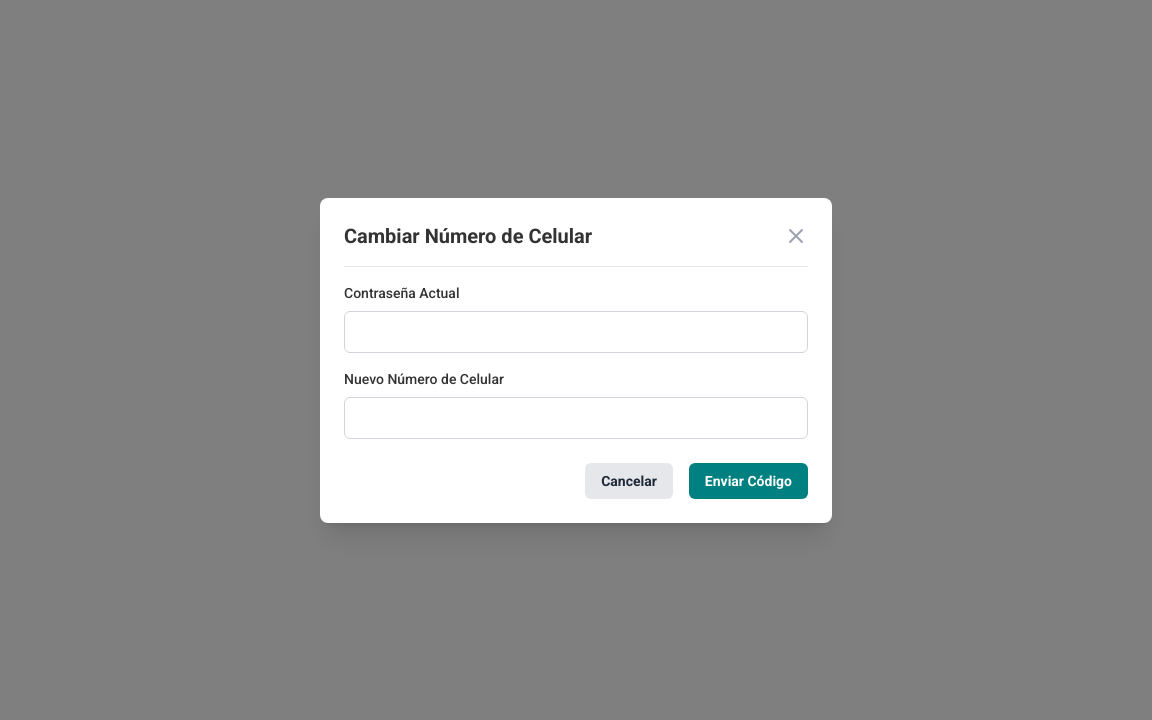
it: ChangeCelularModal › debería avanzar al segundo paso si la solicitud de cambio es exitosa
The image size is (1152, 720).
# Simulamos la entrada de datos del usuario.
Type "password123" into the password field labelled "Contraseña Actual" at (576, 332), box top-left (344, 310), bottom-right (808, 352)
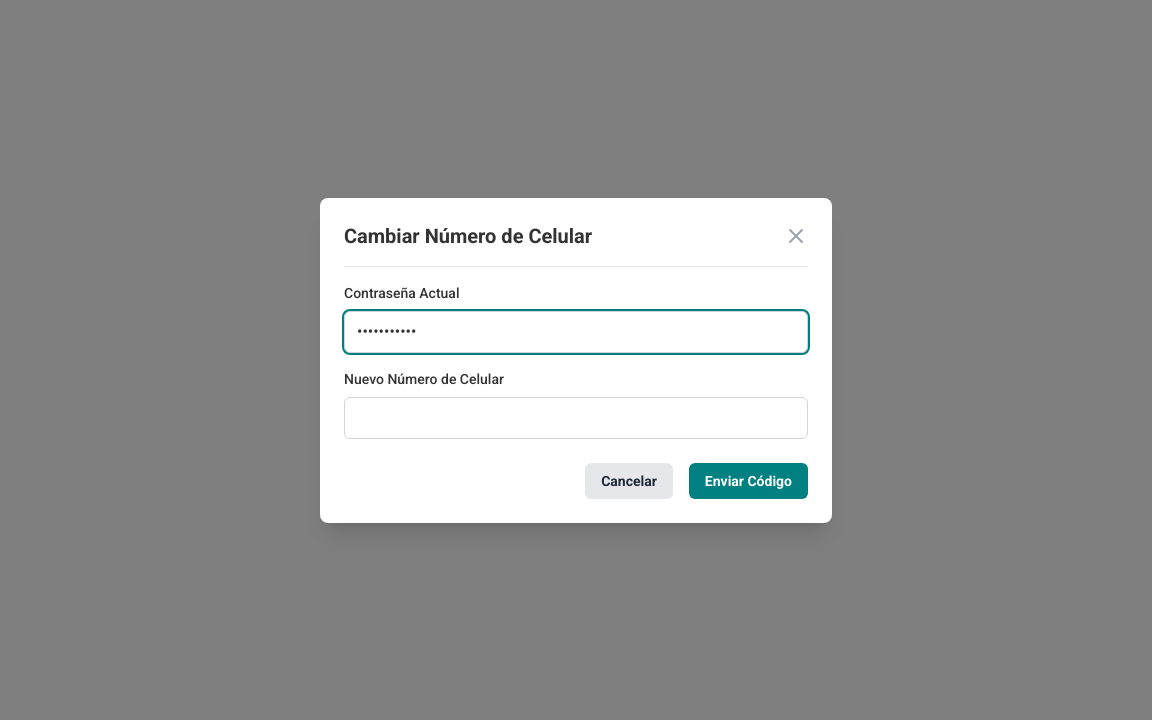
Type "3001234567" into the field labelled "Nuevo Número de Celular" at (576, 418), box top-left (344, 396), bottom-right (808, 438)
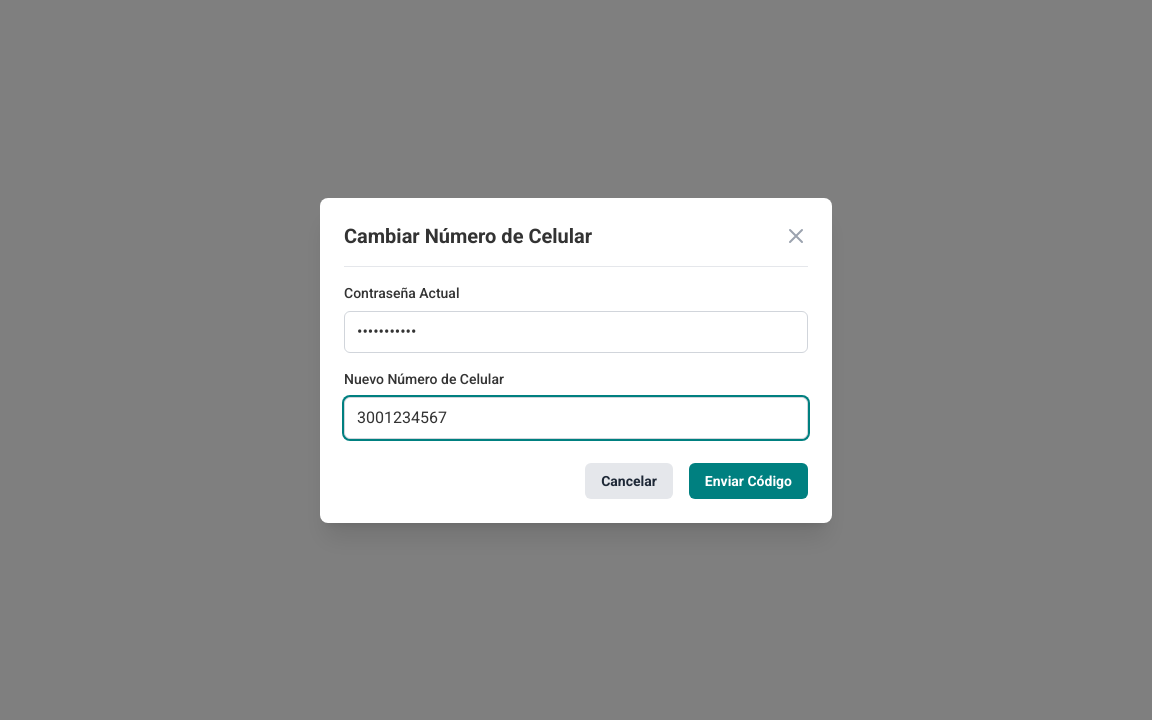
# Simulamos el envío del formulario.
Click the button "Enviar Código" at (748, 480), box top-left (689, 462), bottom-right (808, 498)
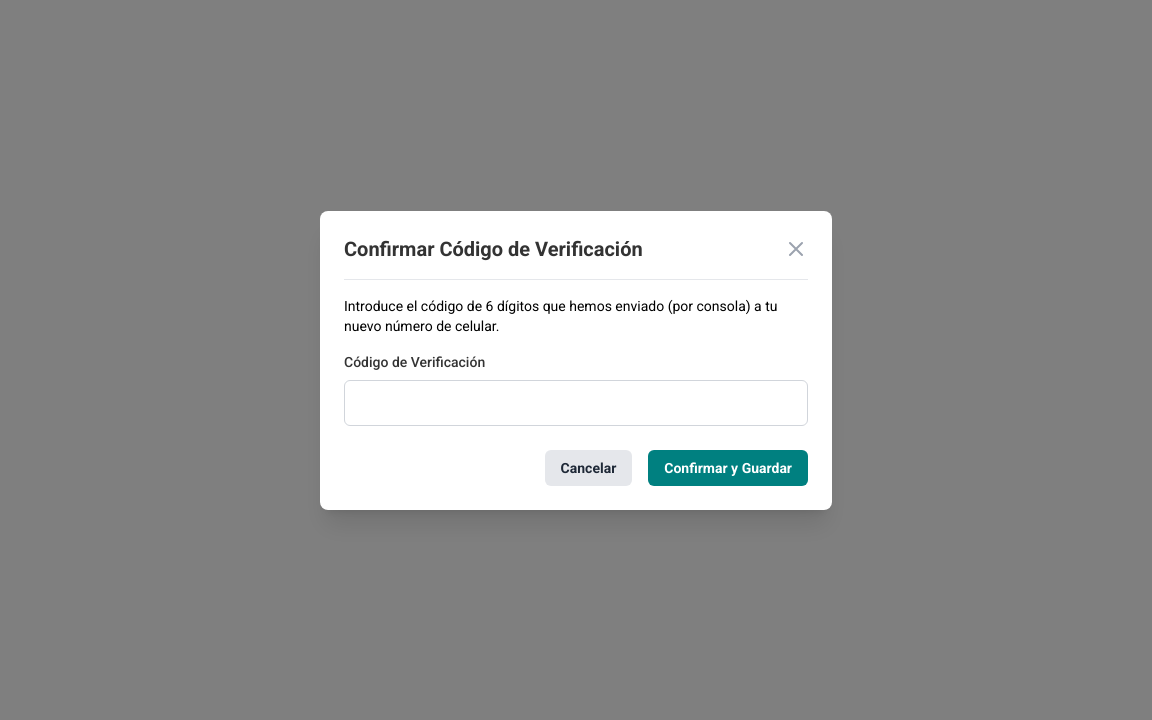
Expected: the field labelled "Código de Verificación" is shown, top-left (344, 380), bottom-right (808, 426)
Result: the heading "Confirmar Código de Verificación" is shown at top-left (344, 234), bottom-right (643, 262)
